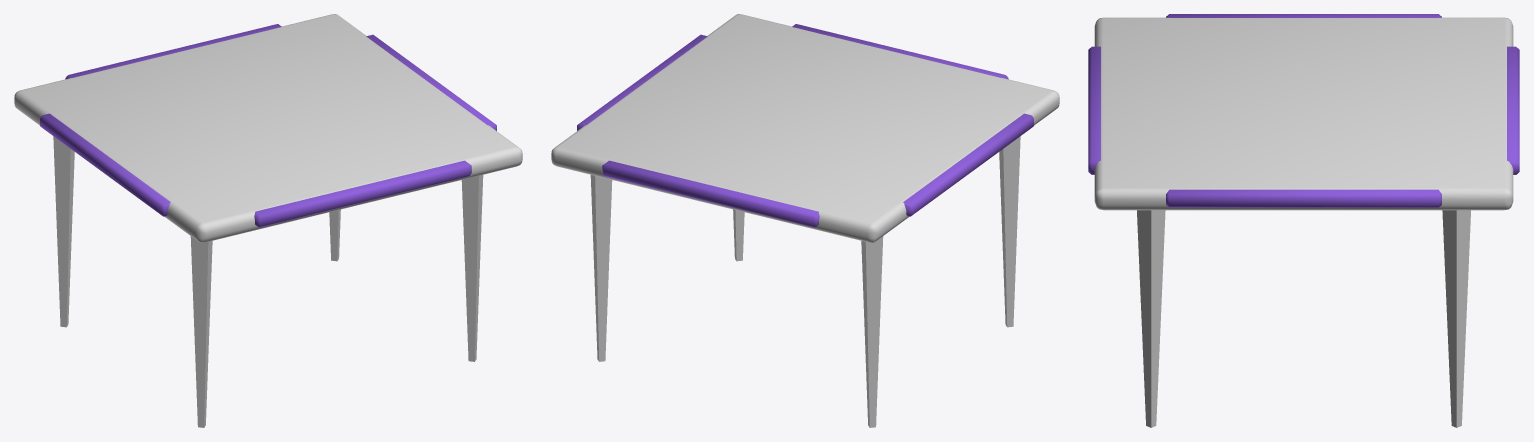
The model's file is table.fbx.
The picture shows the model from 3 angles, left to right: view 1: azimuth 30°, elevation 25°; view 2: azimuth 150°, elevation 25°; view 3: azimuth 270°, elevation 25°; orthographic projection. The views are drawn at different scales.
Visible parts, largest first — view 1: transform3; view 2: transform3; view 3: transform3.
Part boxes in pixels (x1,y1,x2,y2): transform3: (14, 14, 522, 427); transform3: (551, 14, 1059, 427); transform3: (1088, 14, 1519, 427).
Size of the model in its own units: 7.01 by 4.47 by 7.01.
